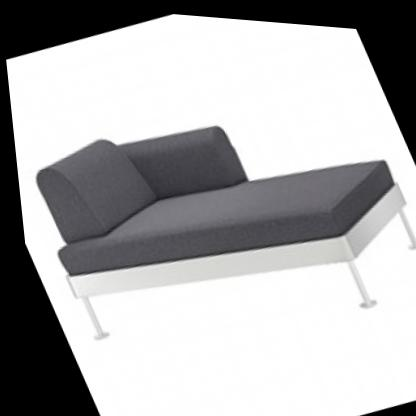Sofa: (1, 11, 416, 416)
